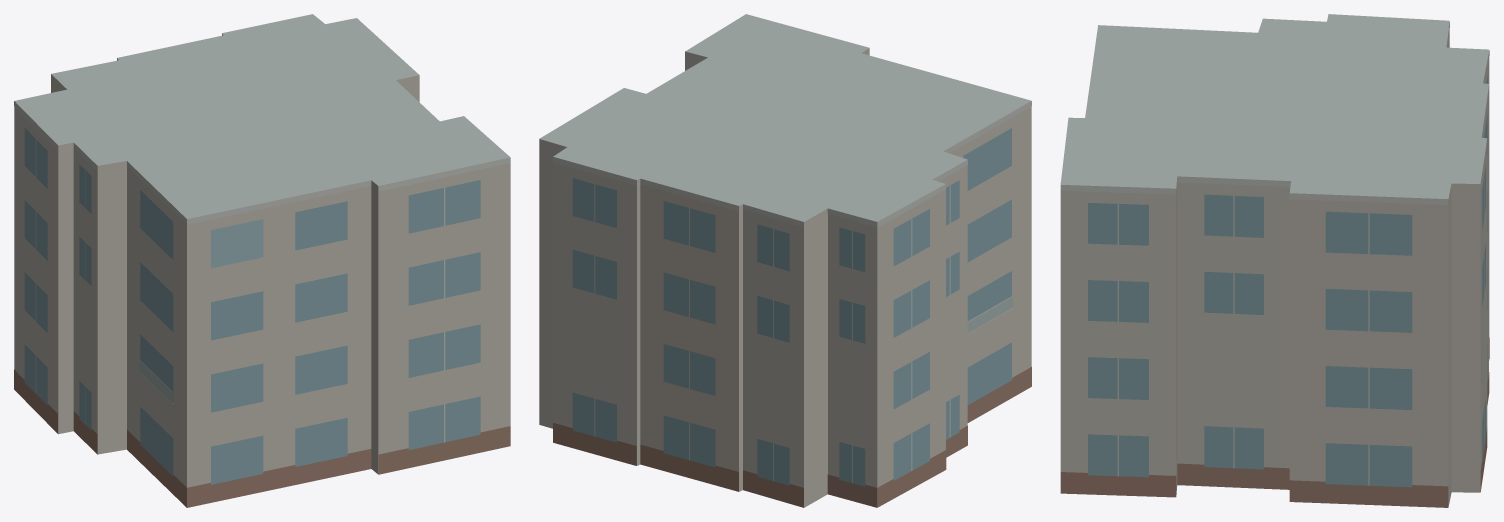
Rendered from survey-upis-32833502.glb.
3 views of the same model, side by side, from view 1: azimuth 30°, elevation 25°; view 2: azimuth 150°, elevation 25°; view 3: azimuth 270°, elevation 25° (orthographic). The views are drawn at different scales.
Parts seen in each view (by area): view 1: survey-upis-32833502.tmp; view 2: survey-upis-32833502.tmp; view 3: survey-upis-32833502.tmp.
Boxes of the visible parts, x1,y1,x2,y2 form: survey-upis-32833502.tmp: [14, 14, 510, 507]; survey-upis-32833502.tmp: [539, 14, 1031, 507]; survey-upis-32833502.tmp: [1060, 14, 1489, 507].
Bounding box in the file's own units: 16.22 × 12.6 × 15.88.
